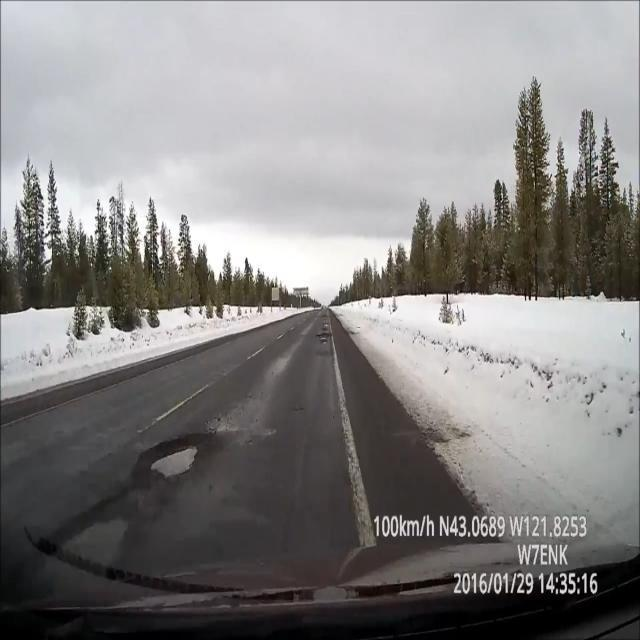pothole: (141, 432, 209, 480), (84, 508, 134, 560), (315, 317, 333, 351)
